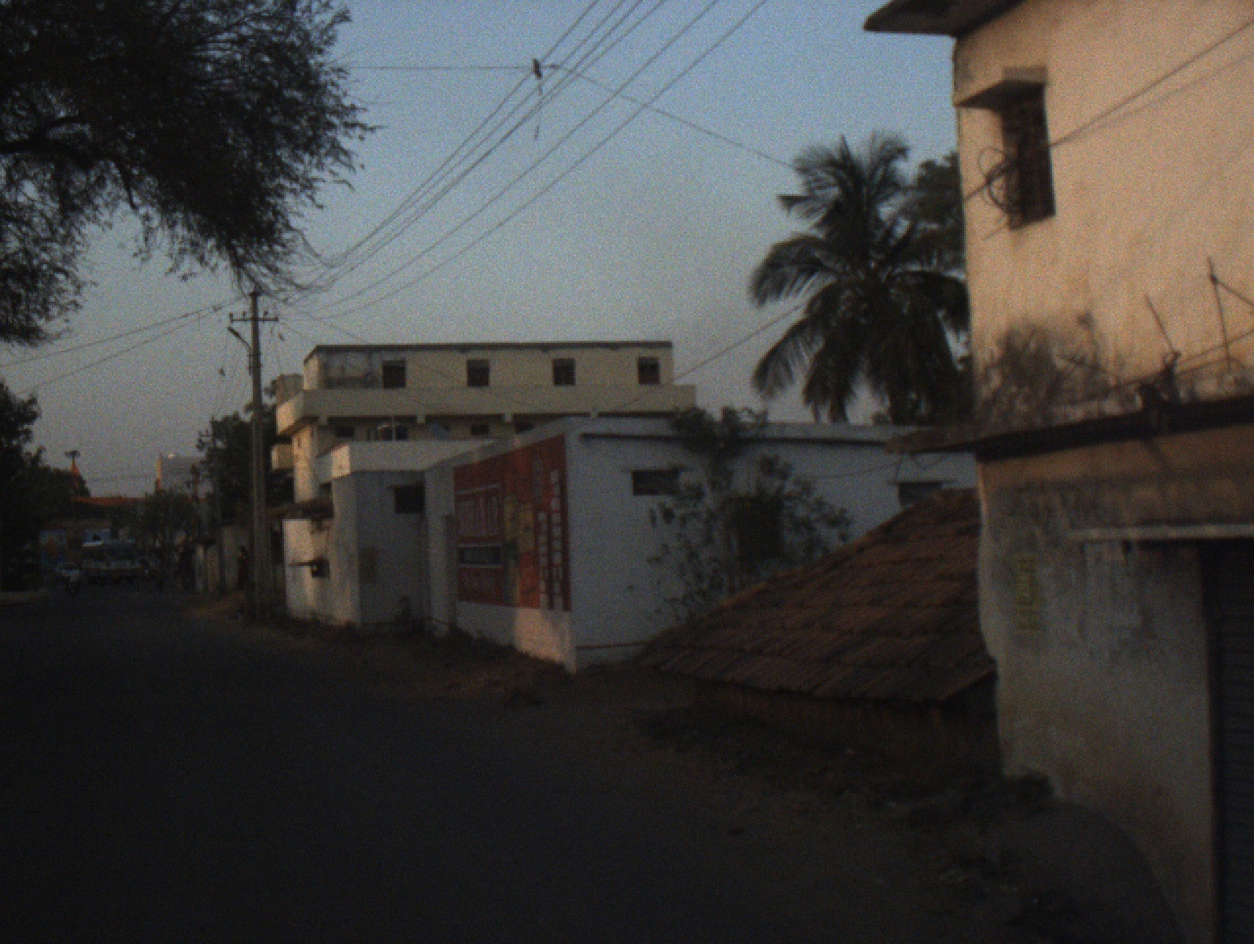bus: (77, 539, 150, 587)
